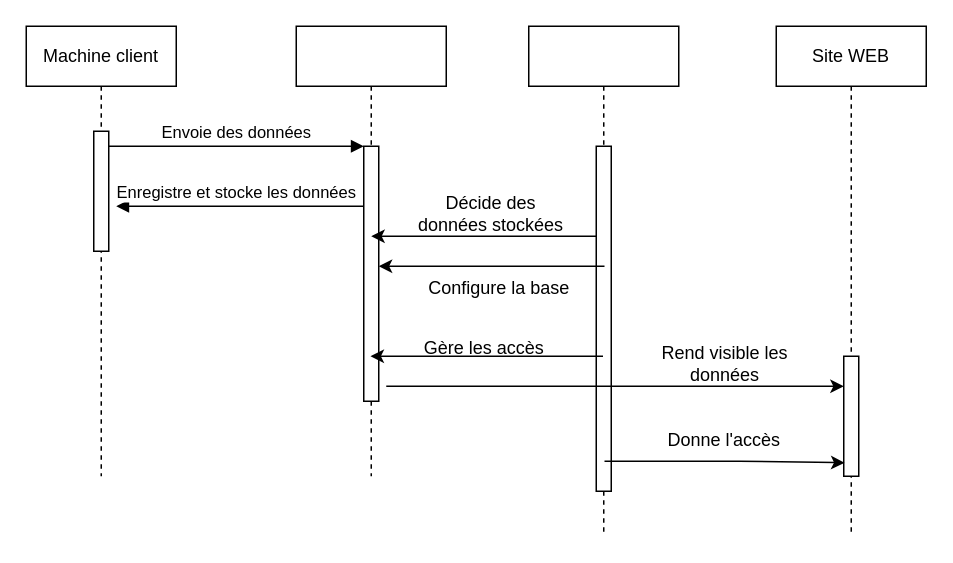
Some shapes in this 953 by 563 pixel diagram are drawn without their labels. The shapes that lost their labels are listed below. From the top down, each one's box as (x1, y1, x2, y2) in pixels, then its label:
(295, 25, 446, 476): base de données
(527, 25, 679, 536): administrateur
